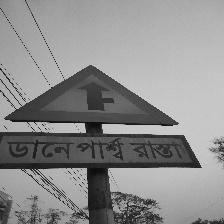Side-road-right: (1, 65, 199, 170)
